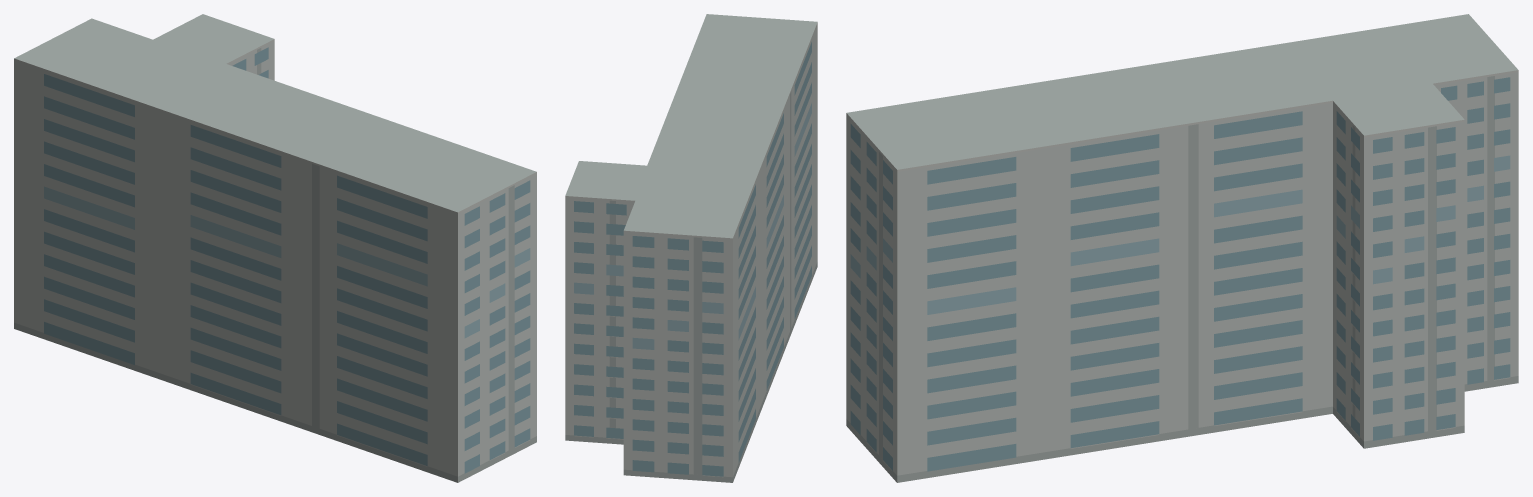
File: residential-d1fe06b2-737f-4199-8184-134b87d7a01f.glb
3 renders of one model, left to right at view 1: azimuth 30°, elevation 25°; view 2: azimuth 150°, elevation 25°; view 3: azimuth 270°, elevation 25°, orthographic. The views are drawn at different scales.
Visible parts, largest first — view 1: residential-d1fe06b2-737f-4199-8184-134b87d7a01f.tmp; view 2: residential-d1fe06b2-737f-4199-8184-134b87d7a01f.tmp; view 3: residential-d1fe06b2-737f-4199-8184-134b87d7a01f.tmp.
Part boxes in pixels (x1,y1,x2,y2): residential-d1fe06b2-737f-4199-8184-134b87d7a01f.tmp: [14, 14, 536, 482]; residential-d1fe06b2-737f-4199-8184-134b87d7a01f.tmp: [565, 14, 817, 482]; residential-d1fe06b2-737f-4199-8184-134b87d7a01f.tmp: [846, 14, 1518, 482].
Bounding box in the file's own units: 39.08 × 36.6 × 71.22.
